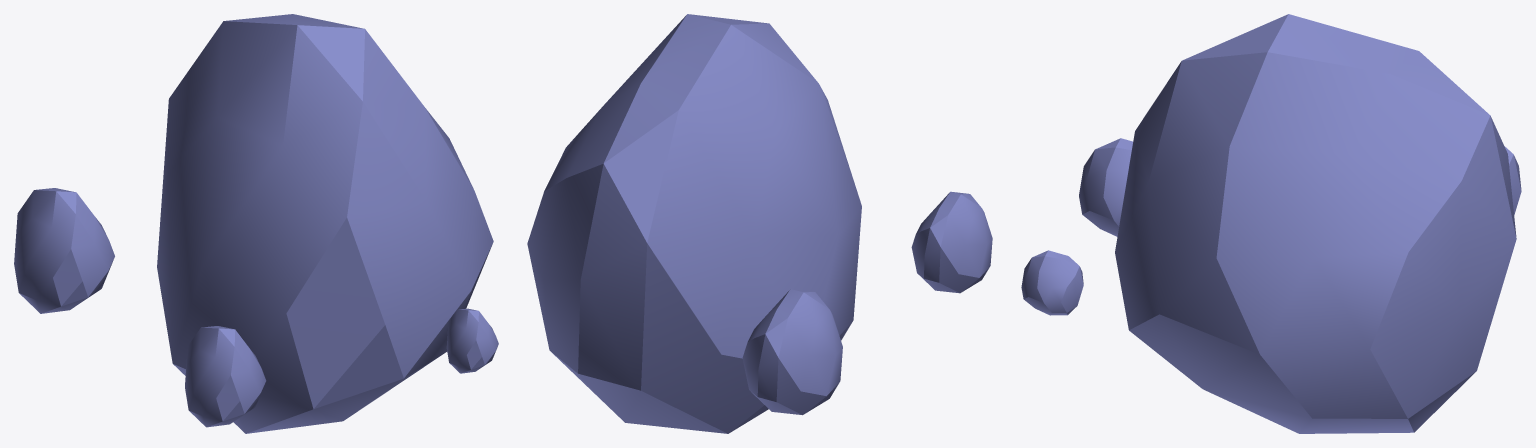
File: A_Comet5.fbx
3 renders of one model, left to right at view 1: azimuth 30°, elevation 25°; view 2: azimuth 150°, elevation 25°; view 3: azimuth 270°, elevation 25°, orthographic. The views are drawn at different scales.
Parts seen in each view (by area): view 1: Rock.012; view 2: Rock.012; view 3: Rock.012.
Boxes of the visible parts, x1=… form: Rock.012: x1=14, y1=14, x2=498, y2=433; Rock.012: x1=527, y1=14, x2=992, y2=433; Rock.012: x1=1021, y1=14, x2=1521, y2=433.
Bounding box in the file's own units: 187 × 191 × 216.
